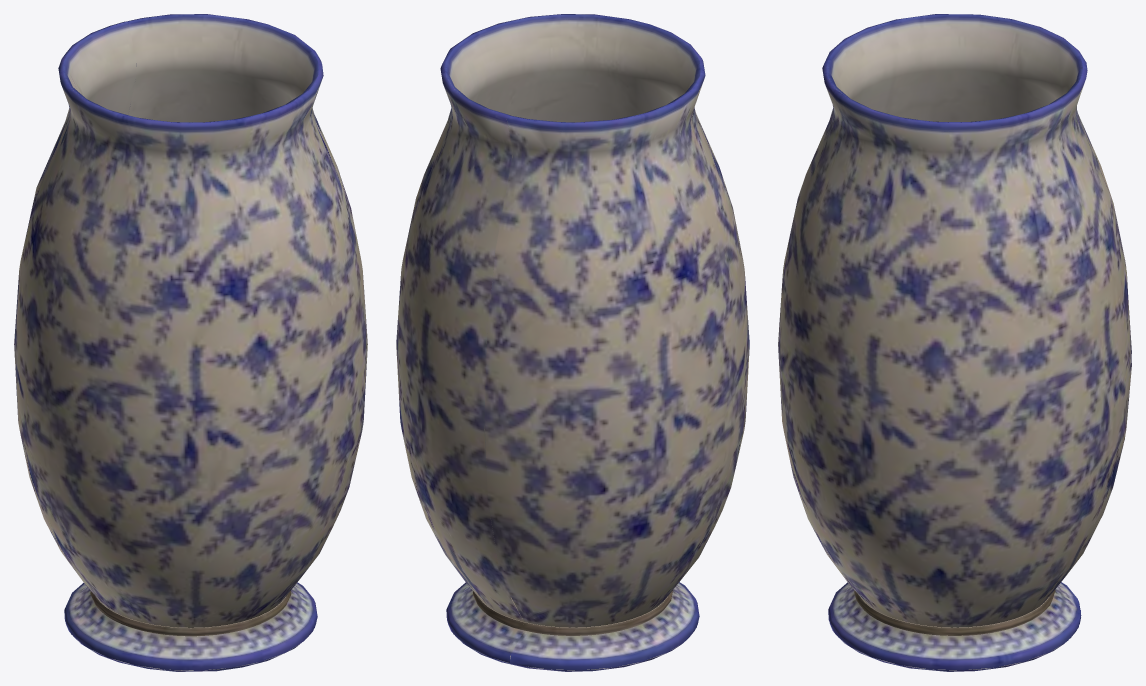
Rendered from antique_ceramic_vase_01.glb.
3 renders of one model, left to right at view 1: azimuth 30°, elevation 25°; view 2: azimuth 150°, elevation 25°; view 3: azimuth 270°, elevation 25°, orthographic.
Parts seen in each view (by area): view 1: antique_ceramic_vase_01; view 2: antique_ceramic_vase_01; view 3: antique_ceramic_vase_01.
Boxes of the visible parts, bbox=[...] form: antique_ceramic_vase_01: bbox=[14, 14, 367, 671]; antique_ceramic_vase_01: bbox=[396, 14, 749, 671]; antique_ceramic_vase_01: bbox=[778, 14, 1131, 671].
Bounding box in the file's own units: 0.2554 × 0.4397 × 0.2556.
1 material, 1 textured.
